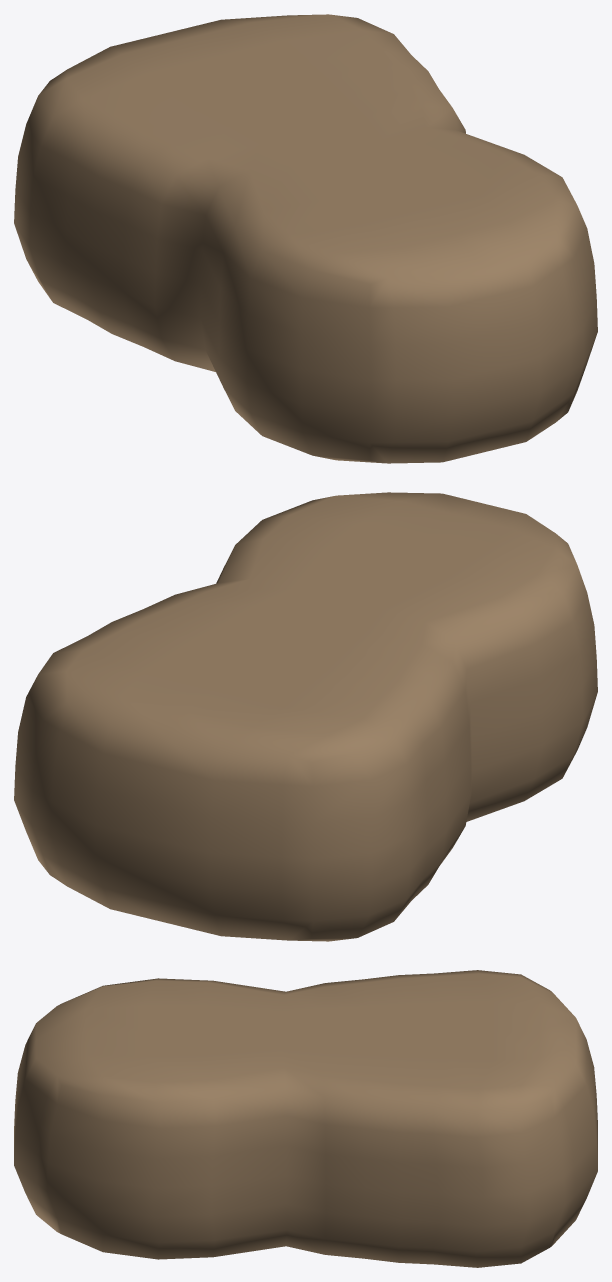
Rendered from env_Sponge.fbx.
3 views of the same model, one above another, from view 1: azimuth 30°, elevation 25°; view 2: azimuth 150°, elevation 25°; view 3: azimuth 270°, elevation 25° (orthographic). The views are drawn at different scales.
Parts seen in each view (by area): view 1: env_Sponge; view 2: env_Sponge; view 3: env_Sponge.
Part boxes in pixels (x1,y1,x2,y2): env_Sponge: (14,14,597,463); env_Sponge: (14,492,597,941); env_Sponge: (14,970,597,1267).
Size of the model in its own units: 11.66 by 6.04 by 18.28.
